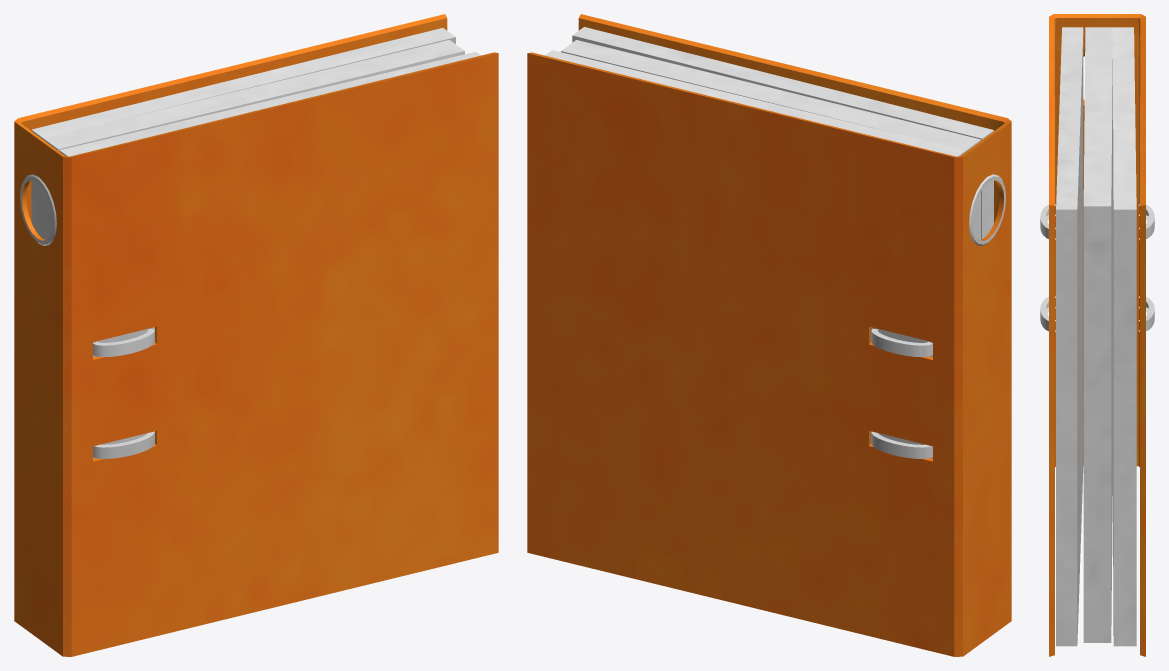
Rendered from folder orange.fbx.
3 renders of one model, left to right at view 1: azimuth 30°, elevation 25°; view 2: azimuth 150°, elevation 25°; view 3: azimuth 270°, elevation 25°, orthographic. The views are drawn at different scales.
Parts seen in each view (by area): view 1: folder_orange; view 2: folder_orange; view 3: folder_orange.
Boxes of the visible parts, x1=… form: folder_orange: x1=14, y1=14, x2=498, y2=656; folder_orange: x1=527, y1=14, x2=1011, y2=656; folder_orange: x1=1040, y1=14, x2=1154, y2=656.
Size of the model in its own units: 30.46 by 33.46 by 7.69.
